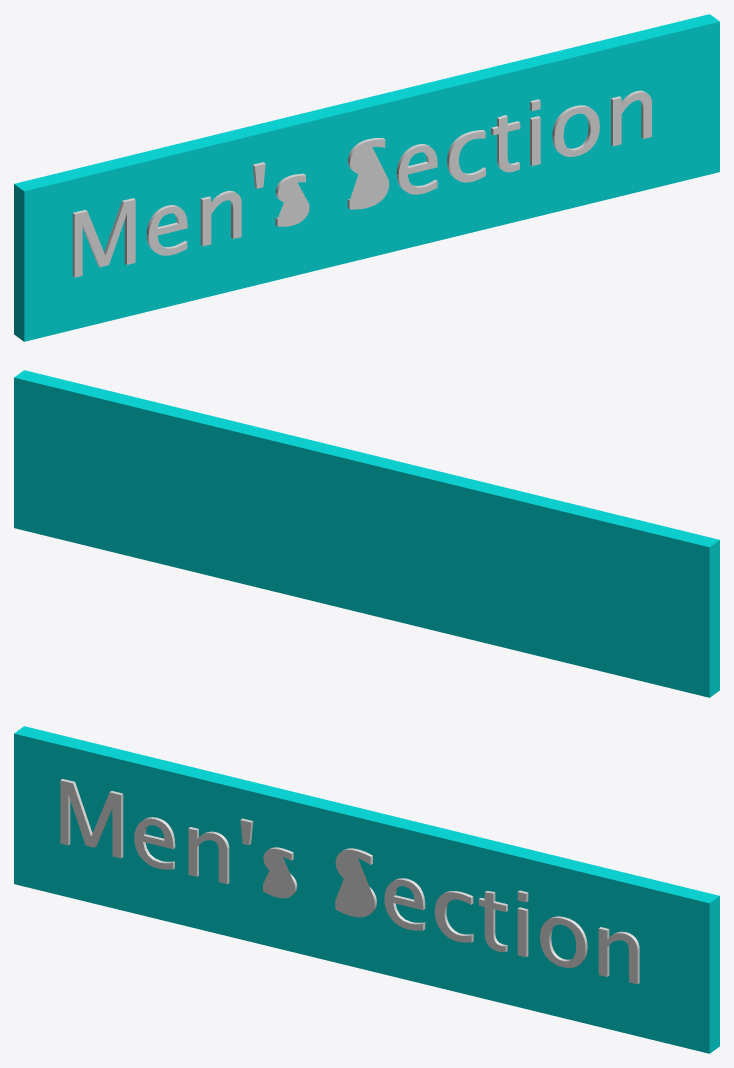
File: MenSign.fbx
3 renders of one model, top to bottom at view 1: azimuth 30°, elevation 25°; view 2: azimuth 150°, elevation 25°; view 3: azimuth 330°, elevation 25°, orthographic.
Visible parts, largest first — view 1: mens_sign:pCube7; view 2: mens_sign:pCube7; view 3: mens_sign:pCube7.
Boxes of the visible parts, x1,y1,x2,y2 form: mens_sign:pCube7: (14, 14, 719, 341); mens_sign:pCube7: (14, 370, 719, 697); mens_sign:pCube7: (14, 726, 719, 1053).
Size of the model in its own units: 2.61 by 0.5389 by 0.0801.
